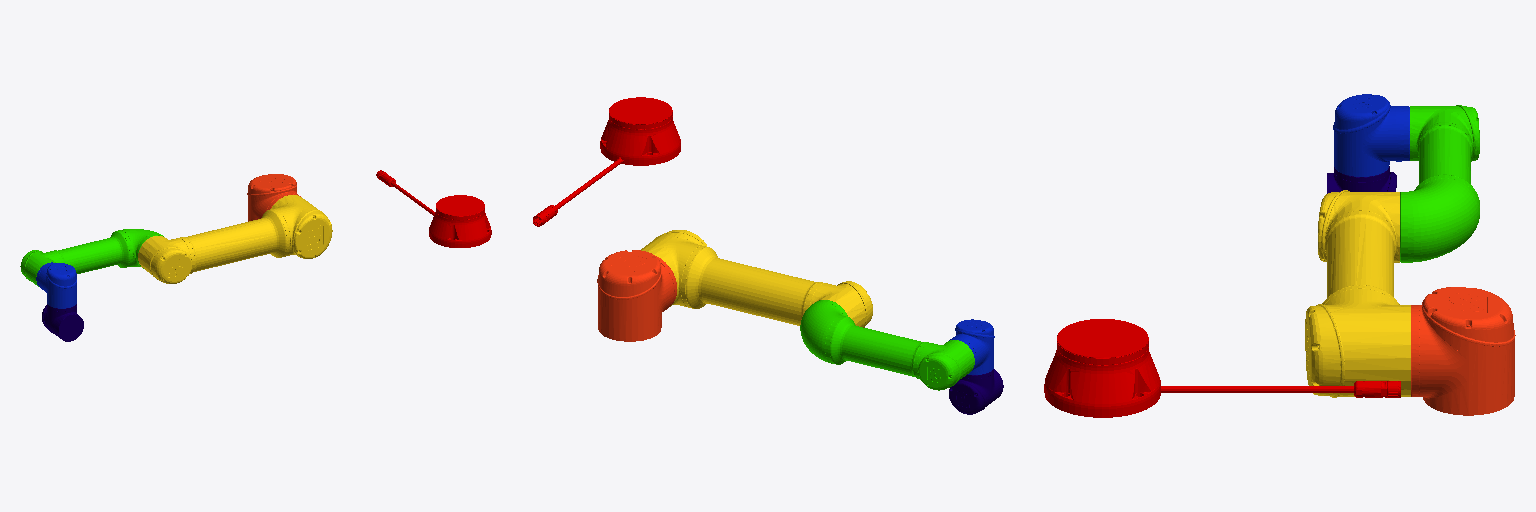
URDF robot description (eSeries_UR16e_14012020_URDF):
<?xml version="1.0" encoding="utf-8"?>
<!-- This URDF was automatically created by SolidWorks to URDF Exporter! Originally created by [author] ([email redacted]) 
     Commit Version: 1.5.1-0-g916b5db  Build Version: 1.5.7152.31018
     For more information, please see http://wiki.ros.org/sw_urdf_exporter -->
<robot
  name="eSeries_UR16e_14012020_URDF">
  <link
    name="base_link">
    <inertial>
      <origin
        xyz="8.0383E-05 0.059278 -0.0015073"
        rpy="0 0 0" />
      <mass
        value="3.4522" />
      <inertia
        ixx="0.0090791"
        ixy="7.3607E-06"
        ixz="2.2923E-06"
        iyy="0.013921"
        iyz="-0.00022255"
        izz="0.010161" />
    </inertial>
    <visual>
      <origin
        xyz="0 0 0"
        rpy="0 0 0" />
      <geometry>
        <mesh
          filename="package://eSeries_UR16e_14012020_URDF/meshes/base_link.STL" />
      </geometry>
      <material
        name="">
        <color
          rgba="0.89804 0 0 1" />
      </material>
    </visual>
    <collision>
      <origin
        xyz="0 0 0"
        rpy="0 0 0" />
      <geometry>
        <mesh
          filename="package://eSeries_UR16e_14012020_URDF/meshes/base_link.STL" />
      </geometry>
    </collision>
  </link>
  <link
    name="Shoulder1">
    <inertial>
      <origin
        xyz="-8.131E-07 0.082255 0.013094"
        rpy="0 0 0" />
      <mass
        value="7.369" />
      <inertia
        ixx="0.063313"
        ixy="-5.9582E-07"
        ixz="1.0885E-06"
        iyy="0.05364"
        iyz="-0.0010264"
        izz="0.056122" />
    </inertial>
    <visual>
      <origin
        xyz="0 0 0"
        rpy="0 0 0" />
      <geometry>
        <mesh
          filename="package://eSeries_UR16e_14012020_URDF/meshes/Shoulder1.STL" />
      </geometry>
      <material
        name="">
        <color
          rgba="1 0.289 0.12 1" />
      </material>
    </visual>
    <collision>
      <origin
        xyz="0 0 0"
        rpy="0 0 0" />
      <geometry>
        <mesh
          filename="package://eSeries_UR16e_14012020_URDF/meshes/Shoulder1.STL" />
      </geometry>
    </collision>
  </link>
  <joint
    name="J1"
    type="revolute">
    <origin
      xyz="0 0 0.0993"
      rpy="1.5708 0 0" />
    <parent
      link="base_link" />
    <child
      link="Shoulder1" />
    <axis
      xyz="0 1 0" />
    <limit
      lower="-6.28"
      upper="6.28"
      effort="0"
      velocity="2.094" />
    <dynamics
      damping="1.5"
      friction="1" />
    <safety_controller
      soft_upper="6"
      soft_lower="-6"
      k_velocity="2.094" />
  </joint>
  <link
    name="Shoulder2">
    <inertial>
      <origin
        xyz="-4.978E-08 0.18974 0.081646"
        rpy="0 0 0" />
      <mass
        value="10.45" />
      <inertia
        ixx="1.2886"
        ixy="-1.0341E-05"
        ixz="3.634E-07"
        iyy="0.093069"
        iyz="0.0026098"
        izz="1.2766" />
    </inertial>
    <visual>
      <origin
        xyz="0 0 0"
        rpy="0 0 0" />
      <geometry>
        <mesh
          filename="package://eSeries_UR16e_14012020_URDF/meshes/Shoulder2.STL" />
      </geometry>
      <material
        name="">
        <color
          rgba="1 0.85 0.12 1" />
      </material>
    </visual>
    <collision>
      <origin
        xyz="0 0 0"
        rpy="0 0 0" />
      <geometry>
        <mesh
          filename="package://eSeries_UR16e_14012020_URDF/meshes/Shoulder2.STL" />
      </geometry>
    </collision>
  </link>
  <joint
    name="J2"
    type="revolute">
    <origin
      xyz="0 0.0814 0.0946"
      rpy="0 0 1.5708" />
    <parent
      link="Shoulder1" />
    <child
      link="Shoulder2" />
    <axis
      xyz="0 0 1" />
    <limit
      lower="-6.28"
      upper="6.28"
      effort="0"
      velocity="2.094" />
    <dynamics
      damping="1.5"
      friction="1" />
    <safety_controller
      soft_upper="6"
      soft_lower="-6"
      k_velocity="2.094" />
  </joint>
  <link
    name="Elbow">
    <inertial>
      <origin
        xyz="-1.5433E-05 0.16483 -0.048444"
        rpy="0 0 0" />
      <mass
        value="4.321" />
      <inertia
        ixx="0.30179"
        ixy="-2.5582E-05"
        ixz="-7.3404E-06"
        iyy="0.023157"
        iyz="0.016558"
        izz="0.29799" />
    </inertial>
    <visual>
      <origin
        xyz="0 0 0"
        rpy="0 0 0" />
      <geometry>
        <mesh
          filename="package://eSeries_UR16e_14012020_URDF/meshes/Elbow.STL" />
      </geometry>
      <material
        name="">
        <color
          rgba="0.2 0.9 0 1" />
      </material>
    </visual>
    <collision>
      <origin
        xyz="0 0 0"
        rpy="0 0 0" />
      <geometry>
        <mesh
          filename="package://eSeries_UR16e_14012020_URDF/meshes/Elbow.STL" />
      </geometry>
    </collision>
  </link>
  <joint
    name="J3"
    type="revolute">
    <origin
      xyz="0 0.4784 0"
      rpy="0 0 0" />
    <parent
      link="Shoulder2" />
    <child
      link="Elbow" />
    <axis
      xyz="0 0 1" />
    <limit
      lower="-6.28"
      upper="6.28"
      effort="0"
      velocity="3.141" />
    <dynamics
      damping="1.5"
      friction="1" />
    <safety_controller
      soft_upper="6"
      soft_lower="-6"
      k_velocity="3.141" />
  </joint>
  <link
    name="Wrist1">
    <inertial>
      <origin
        xyz="6.1842E-06 0.0015493 0.063631"
        rpy="0 0 0" />
      <mass
        value="2.18" />
      <inertia
        ixx="0.008219"
        ixy="1.0802E-07"
        ixz="1.8391E-07"
        iyy="0.0067972"
        iyz="-0.00020953"
        izz="0.0059858" />
    </inertial>
    <visual>
      <origin
        xyz="0 0 0"
        rpy="0 0 0" />
      <geometry>
        <mesh
          filename="package://eSeries_UR16e_14012020_URDF/meshes/Wrist1.STL" />
      </geometry>
      <material
        name="">
        <color
          rgba="0.07 0.2 0.8 1" />
      </material>
    </visual>
    <collision>
      <origin
        xyz="0 0 0"
        rpy="0 0 0" />
      <geometry>
        <mesh
          filename="package://eSeries_UR16e_14012020_URDF/meshes/Wrist1.STL" />
      </geometry>
    </collision>
  </link>
  <joint
    name="J4"
    type="revolute">
    <origin
      xyz="0 0.36 0"
      rpy="0 0 1.5708" />
    <parent
      link="Elbow" />
    <child
      link="Wrist1" />
    <axis
      xyz="0 0 1" />
    <limit
      lower="-6.28"
      upper="6.28"
      effort="0"
      velocity="3.141" />
    <dynamics
      damping="1"
      friction="1" />
    <safety_controller
      soft_upper="6"
      soft_lower="-6"
      k_velocity="3.141" />
  </joint>
  <link
    name="Wrist2">
    <inertial>
      <origin
        xyz="1.976E-07 0.1069 0.0017385"
        rpy="0 0 0" />
      <mass
        value="2.033" />
      <inertia
        ixx="0.0064896"
        ixy="-1.1566E-07"
        ixz="-5.9406E-08"
        iyy="0.0055298"
        iyz="-0.00016722"
        izz="0.0050727" />
    </inertial>
    <visual>
      <origin
        xyz="0 0 0"
        rpy="0 0 0" />
      <geometry>
        <mesh
          filename="package://eSeries_UR16e_14012020_URDF/meshes/Wrist2.STL" />
      </geometry>
      <material
        name="">
        <color
          rgba="0.12 0 0.4 1" />
      </material>
    </visual>
    <collision>
      <origin
        xyz="0 0 0"
        rpy="0 0 0" />
      <geometry>
        <mesh
          filename="package://eSeries_UR16e_14012020_URDF/meshes/Wrist2.STL" />
      </geometry>
    </collision>
  </link>
  <joint
    name="J5"
    type="revolute">
    <origin
      xyz="0 0.0033422 0.07955"
      rpy="0 0 0" />
    <parent
      link="Wrist1" />
    <child
      link="Wrist2" />
    <axis
      xyz="0 1 0" />
    <limit
      lower="-6.28"
      upper="6.28"
      effort="0"
      velocity="3.141" />
    <dynamics
      damping="1.5"
      friction="1" />
    <safety_controller
      soft_upper="6"
      soft_lower="-6"
      k_velocity="3.141" />
  </joint>
  <link
    name="Wrist3">
    <inertial>
      <origin
        xyz="5.5566E-10 -7.868E-05 0.027763"
        rpy="0 0 0" />
      <mass
        value="0.907" />
      <inertia
        ixx="0.0011921"
        ixy="-6.8485E-11"
        ixz="2.3129E-11"
        iyy="0.0011964"
        iyz="2.3325E-07"
        izz="0.0015671" />
    </inertial>
    <visual>
      <origin
        xyz="0 0 0"
        rpy="0 0 0" />
      <geometry>
        <mesh
          filename="package://eSeries_UR16e_14012020_URDF/meshes/Wrist3.STL" />
      </geometry>
      <material
        name="">
        <color
          rgba="0.2 0 0.32 1" />
      </material>
    </visual>
    <collision>
      <origin
        xyz="0 0 0"
        rpy="0 0 0" />
      <geometry>
        <mesh
          filename="package://eSeries_UR16e_14012020_URDF/meshes/Wrist3.STL" />
      </geometry>
    </collision>
  </link>
  <joint
    name="J6"
    type="revolute">
    <origin
      xyz="0 0.11651 0.0569"
      rpy="0 0 0" />
    <parent
      link="Wrist2" />
    <child
      link="Wrist3" />
    <axis
      xyz="0 0 1" />
    <limit
      lower="-6.28"
      upper="6.28"
      effort="0"
      velocity="3.141" />
    <dynamics
      damping="1.5"
      friction="1" />
    <safety_controller
      soft_upper="6"
      soft_lower="-6"
      k_velocity="3.141" />
  </joint>
</robot>

--- Render facts (derived) ---
Views: 3 orthographic renders of the robot side by side, from view 1: azimuth 30°, elevation 25°; view 2: azimuth 150°, elevation 25°; view 3: azimuth 270°, elevation 25°.
Robot: eSeries_UR16e_14012020_URDF — 7 links, 6 joints (6 revolute); root link base_link; default pose: all joints at 0.
Links seen in each view (by area): view 1: Shoulder2, Elbow, base_link, Wrist1, Shoulder1, Wrist2; view 2: Shoulder2, Elbow, Shoulder1, base_link, Wrist2, Wrist1; view 3: Shoulder2, Shoulder1, base_link, Elbow, Wrist1, Wrist2.
Boxes of the visible links, bbox=[...] form: Shoulder2: bbox=[138, 195, 332, 283]; Elbow: bbox=[20, 229, 163, 286]; base_link: bbox=[376, 170, 491, 247]; Wrist1: bbox=[36, 262, 76, 308]; Shoulder1: bbox=[247, 174, 300, 221]; Wrist2: bbox=[42, 304, 83, 341]; Shoulder2: bbox=[641, 230, 872, 327]; Elbow: bbox=[800, 300, 974, 390]; Shoulder1: bbox=[597, 250, 676, 341]; base_link: bbox=[533, 97, 680, 226]; Wrist2: bbox=[949, 369, 1003, 414]; Wrist1: bbox=[949, 319, 994, 374]; Shoulder2: bbox=[1305, 190, 1410, 397]; Shoulder1: bbox=[1411, 287, 1515, 415]; base_link: bbox=[1044, 319, 1400, 417]; Elbow: bbox=[1400, 105, 1479, 262]; Wrist1: bbox=[1333, 94, 1409, 176]; Wrist2: bbox=[1327, 166, 1396, 193].
Bounding box of the posed robot: 1.3 × 0.7681 × 0.3369 m (x, y, z).
Meshes: 7 distinct files referenced, 6 mesh visuals loaded (6 binary STL); not drawn: 1 (reference not matched to a file when rendering).